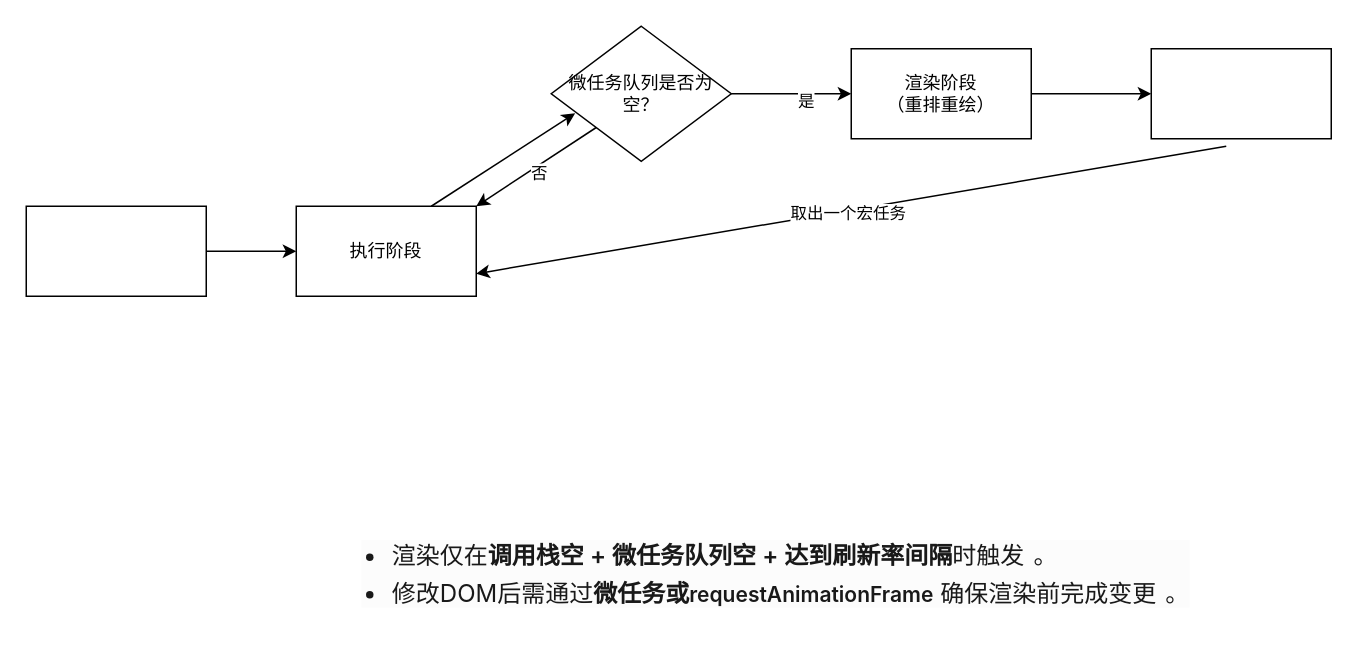
The diagram is 1358 pixels wide and 668 high, and some of its shapes have lost their labels. Each missing label, with the centre of its shape:
"宏任务队列" belongs at (x=1240, y=93).
"解释阶段" belongs at (x=115, y=250).
